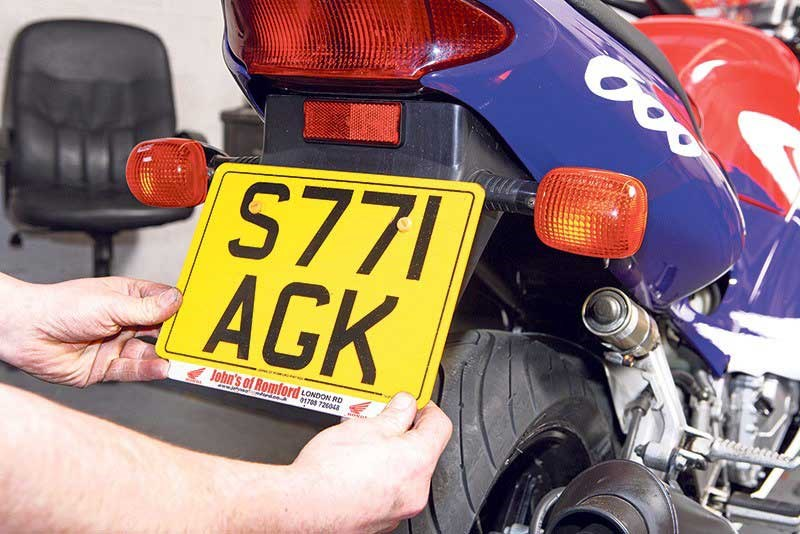number_plate: (155, 153, 479, 429)
